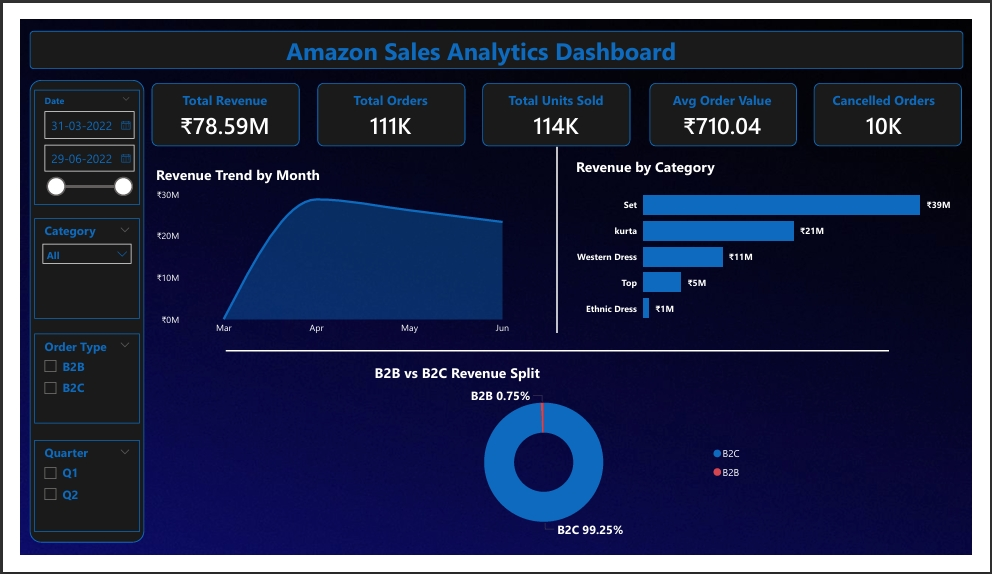

This screenshot's page, from the dashboard's own definition file:
{"tool":"powerbi","page":{"name":"Executive Summary","canvas":[1280,720],"ordinal":0},"visuals":[{"type":"stackedAreaChart","title":"Revenue Trend by Month","fields":{"Category":["Date_Table.Month Name"],"Y":["_Measures.Total Revenue"]},"box":[177.1,195.8,525.6,237.6],"z":0},{"type":"donutChart","title":" B2B vs B2C Revenue Split","fields":{"Y":["_Measures.Total Revenue"],"Category":["ecommerce_cleaned.B2B"]},"box":[470.9,462.2,511.2,240.5],"z":1000},{"type":"clusteredBarChart","title":"Revenue by Category","fields":{"Category":["ecommerce_cleaned.Category"],"Y":["_Measures.Total Revenue"]},"box":[741.6,184.3,525.6,237.6],"z":2000},{"type":"shape","box":[11.5,15.8,1255.7,50.4],"z":3000,"group":"g3"},{"type":"textbox","box":[351.3,14.4,545.8,53.3],"z":4000,"group":"g3"},{"type":"shape","box":[11.5,80.6,154.1,622.1],"z":5000,"group":"g1"},{"type":"shape","box":[715.7,171.4,11.5,250],"z":5000},{"type":"shape","box":[175.7,84.9,198.7,85],"z":6000,"group":"g2"},{"type":"shape","box":[276.5,437.8,891.4,14.4],"z":6000},{"type":"group","id":"g1","title":"Group 1","box":[11.5,80.6,154.1,622.1],"z":7000},{"type":"shape","box":[398.9,84.9,198.7,85],"z":7000,"group":"g2"},{"type":"group","id":"g2","title":"Group 2","box":[175.7,80.6,1090.1,95],"z":8000},{"type":"shape","box":[620.7,84.9,198.7,85],"z":8000,"group":"g2"},{"type":"group","id":"g3","title":"Group 3","box":[11.5,14.4,1255.7,53.3],"z":8001},{"type":"shape","box":[845.3,84.9,198.7,85],"z":9000,"group":"g2"},{"type":"shape","box":[1067.1,84.9,198.7,85],"z":10000,"group":"g2"},{"type":"cardVisual","fields":{"Data":["_Measures.Total Revenue"]},"box":[181.5,80.6,185.8,95],"z":11000,"group":"g2"},{"type":"cardVisual","fields":{"Data":["_Measures.Total Orders"]},"box":[404.7,80.6,185.8,95],"z":12000,"group":"g2"},{"type":"cardVisual","fields":{"Data":["_Measures.Total Units Sold"]},"box":[620.7,80.6,198.7,95],"z":13000,"group":"g2"},{"type":"cardVisual","fields":{"Data":["_Measures.Avg Order Value"]},"box":[842.4,80.6,201.6,95],"z":14000,"group":"g2"},{"type":"cardVisual","fields":{"Data":["_Measures.Cancelled Orders"]},"box":[1057,80.6,208.8,95],"z":15000,"group":"g2"},{"type":"slicer","fields":{"Values":["Date_Table.Date"]},"box":[17.3,93.6,142.6,155.5],"z":18000,"group":"g1"},{"type":"slicer","fields":{"Values":["ecommerce_cleaned.Category"]},"box":[17.3,266.4,142.6,135.4],"z":19000,"group":"g1"},{"type":"slicer","fields":{"Values":["ecommerce_cleaned.B2B"]},"box":[17.3,421.9,142.6,121],"z":20000,"group":"g1"},{"type":"slicer","fields":{"Values":["Date_Table.Quarter"]},"box":[17.3,564.4,142.6,123.8],"z":21000,"group":"g1"}]}

Visuals, with their boxes in screenshot pixels (x1, y1, x2, y2), scaled from the page's 1280x720 canvas onto the 992x574 screenshot:
"Revenue Trend by Month" stackedAreaChart: left=137, top=156, right=545, bottom=346
" B2B vs B2C Revenue Split" donutChart: left=365, top=368, right=761, bottom=560
"Revenue by Category" clusteredBarChart: left=575, top=147, right=982, bottom=336
shape: left=9, top=13, right=982, bottom=53
textbox: left=272, top=11, right=695, bottom=54
shape: left=9, top=64, right=128, bottom=560
shape: left=555, top=137, right=564, bottom=336
shape: left=136, top=68, right=290, bottom=135
shape: left=214, top=349, right=905, bottom=361
"Group 1" group: left=9, top=64, right=128, bottom=560
shape: left=309, top=68, right=463, bottom=135
"Group 2" group: left=136, top=64, right=981, bottom=140
shape: left=481, top=68, right=635, bottom=135
"Group 3" group: left=9, top=11, right=982, bottom=54
shape: left=655, top=68, right=809, bottom=135
shape: left=827, top=68, right=981, bottom=135
cardVisual - _Measures.Total Revenue: left=141, top=64, right=285, bottom=140
cardVisual - _Measures.Total Orders: left=314, top=64, right=458, bottom=140
cardVisual - _Measures.Total Units Sold: left=481, top=64, right=635, bottom=140
cardVisual - _Measures.Avg Order Value: left=653, top=64, right=809, bottom=140
cardVisual - _Measures.Cancelled Orders: left=819, top=64, right=981, bottom=140
slicer - Date_Table.Date: left=13, top=75, right=124, bottom=199
slicer - ecommerce_cleaned.Category: left=13, top=212, right=124, bottom=320
slicer - ecommerce_cleaned.B2B: left=13, top=336, right=124, bottom=433
slicer - Date_Table.Quarter: left=13, top=450, right=124, bottom=549
